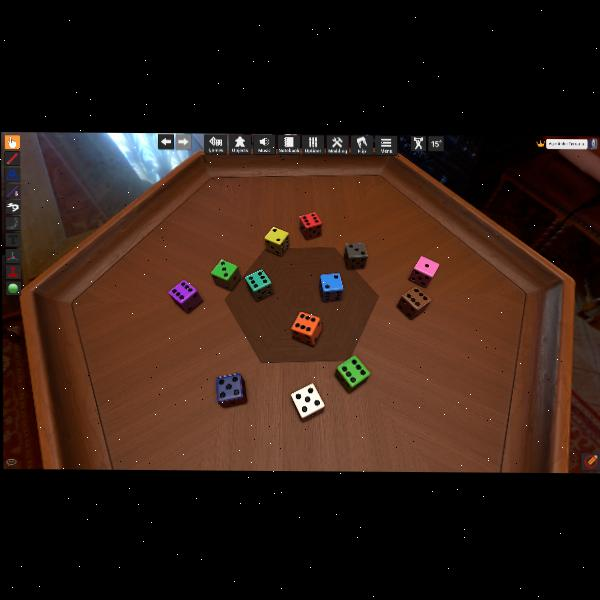d6: (291, 383, 325, 419), (168, 279, 202, 313), (336, 356, 369, 391), (214, 373, 246, 407), (291, 312, 322, 347), (398, 285, 429, 319), (244, 268, 274, 302), (409, 255, 439, 287), (210, 259, 238, 291), (264, 226, 289, 256), (319, 272, 343, 301), (343, 242, 366, 269), (299, 213, 321, 240)
